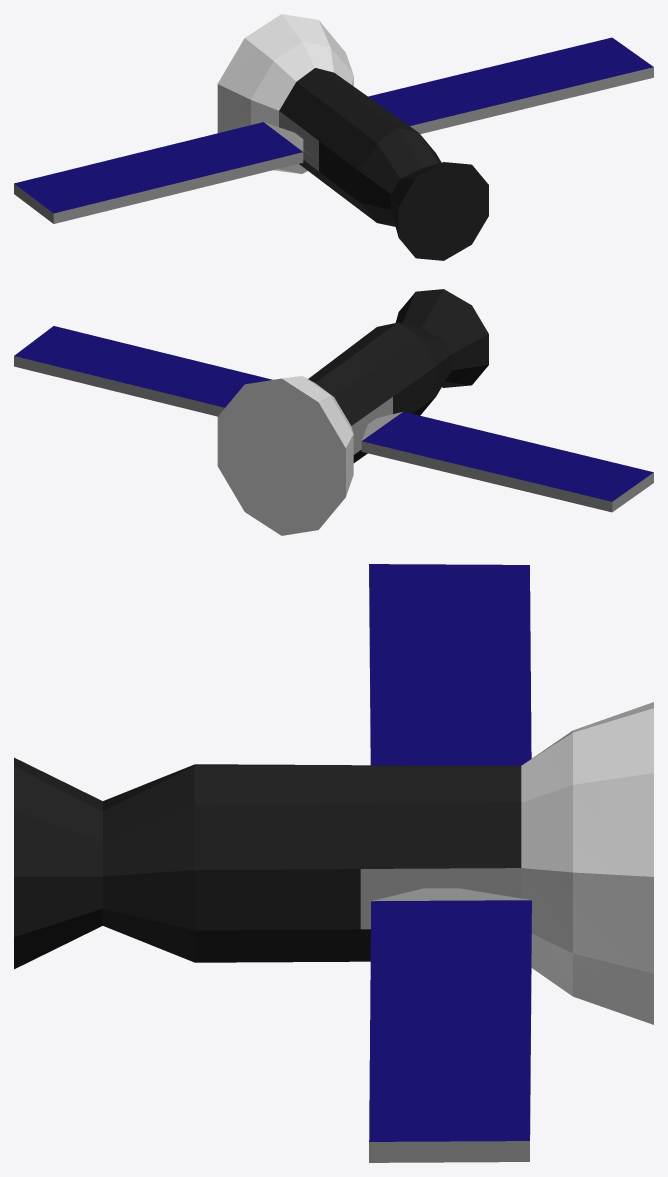
File: soyuz.obj
3 renders of one model, top to bottom at view 1: azimuth 30°, elevation 25°; view 2: azimuth 150°, elevation 25°; view 3: azimuth 270°, elevation 25°, orthographic. The views are drawn at different scales.
Visible parts, largest first — view 1: Soyuz; view 2: Soyuz; view 3: Soyuz.
Part boxes in pixels (left/top/right/bottom): Soyuz: left=14, top=14, right=653, bottom=260; Soyuz: left=14, top=289, right=653, bottom=535; Soyuz: left=14, top=564, right=653, bottom=1162.
Size of the model in its own units: 10.7 by 2.68 by 5.01.
